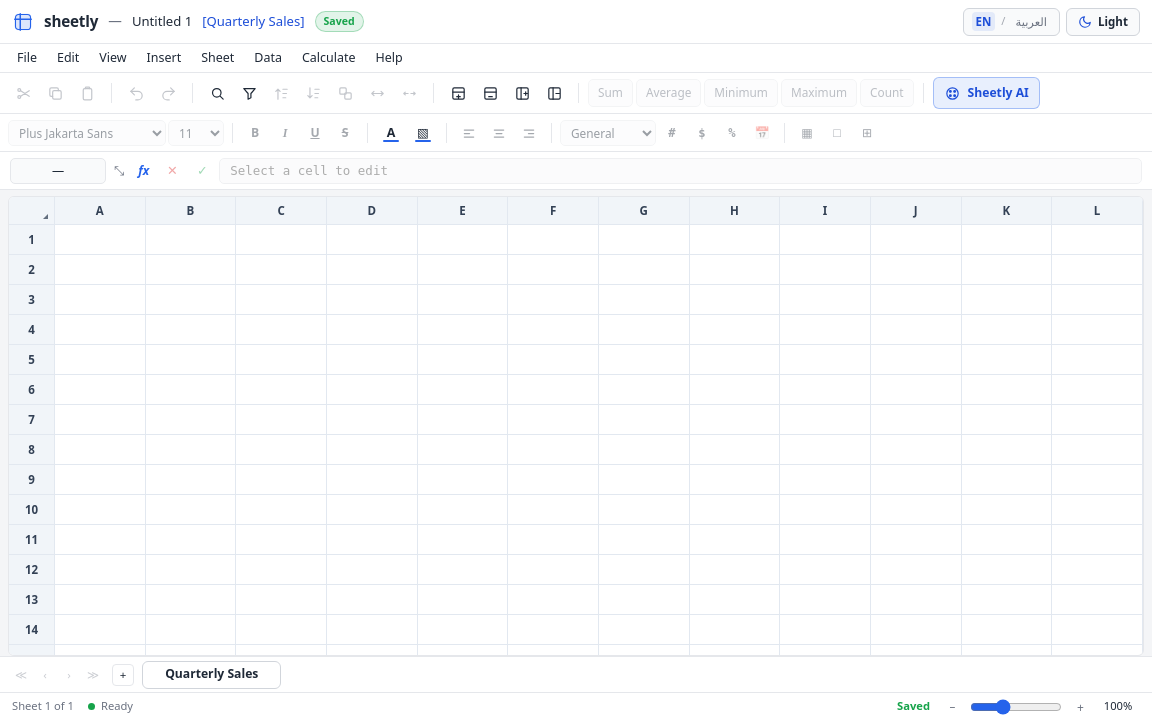
Test case: App › shows the format scope in the Help panel
The image size is (1152, 720).
Click the button "Help".
click(389, 58)  # box left=366, top=44, right=412, bottom=72
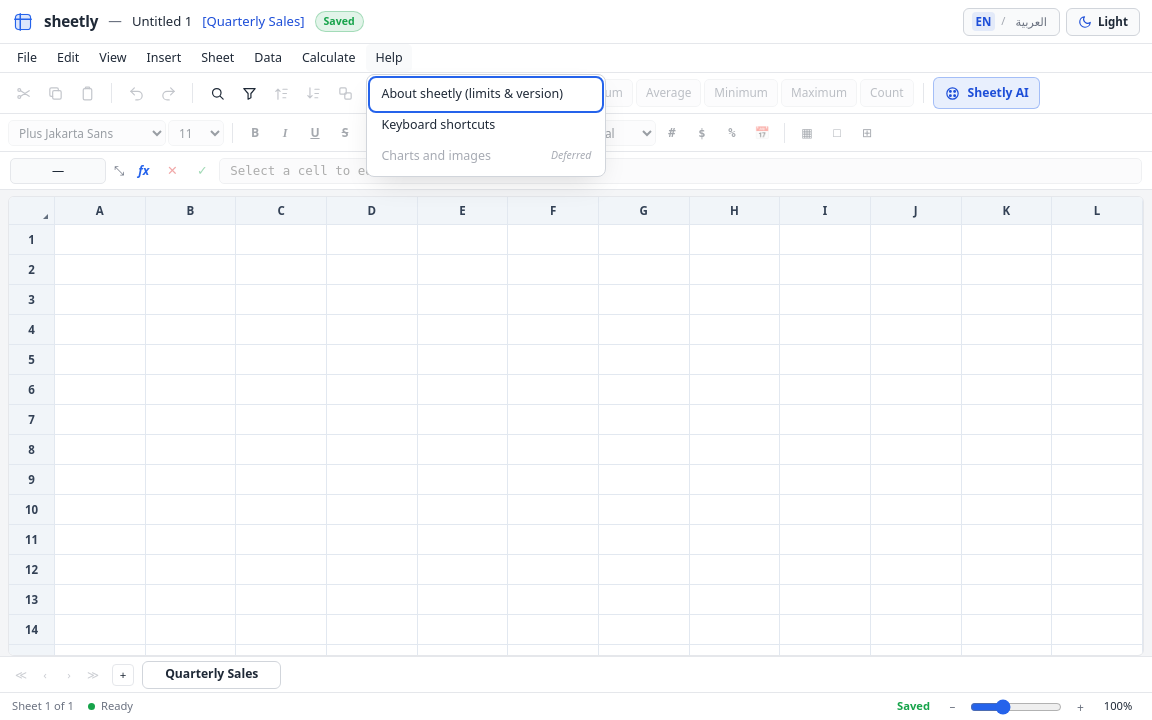
Click the menu item "About sheetly (limits & version)".
click(486, 95)  # box left=371, top=79, right=601, bottom=110
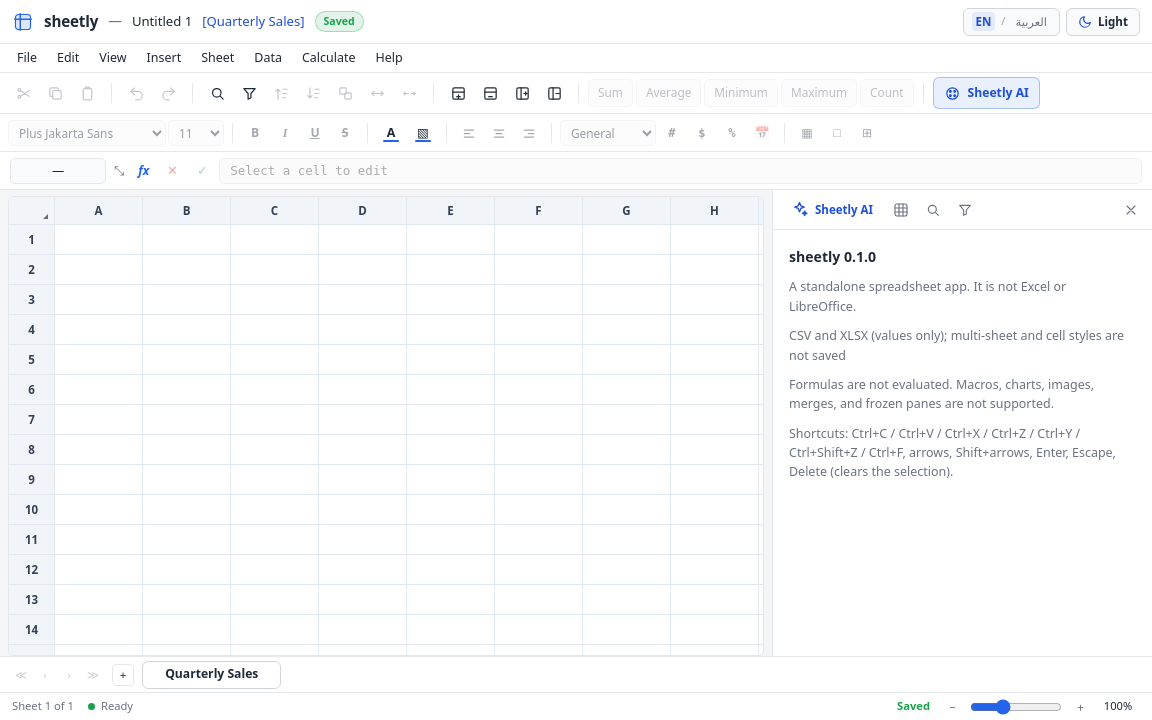
Check: the text "CSV and XLSX (values only)" is shown, box left=789, top=327, right=1124, bottom=364
